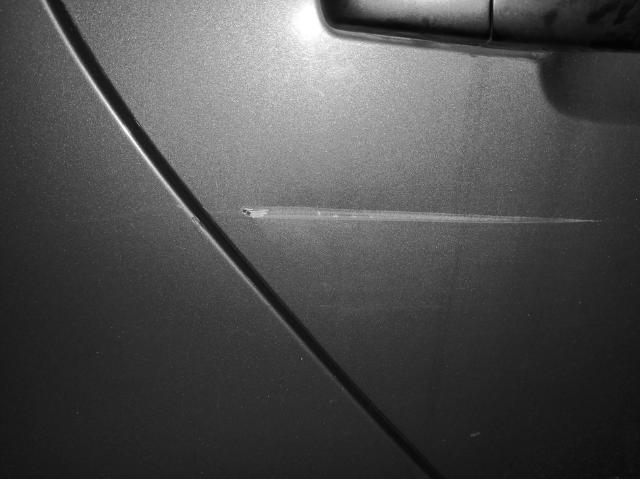Door: (239, 144, 614, 305)
